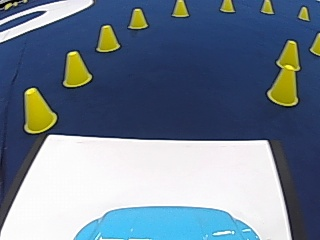cone: (21, 86, 57, 132), (266, 56, 299, 105), (269, 43, 300, 90), (62, 49, 92, 86), (276, 39, 300, 70), (95, 23, 120, 52), (128, 7, 148, 29), (171, 0, 188, 17), (309, 32, 319, 55), (260, 0, 274, 14), (219, 0, 235, 12), (297, 6, 309, 20)
